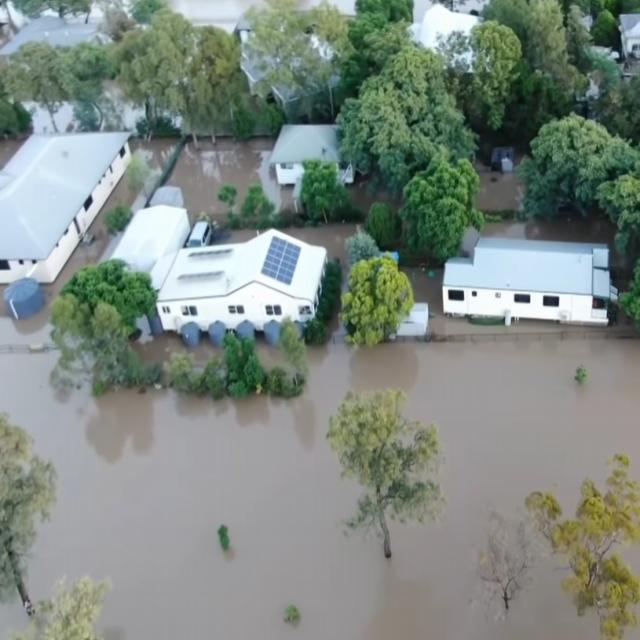flood: (0, 288, 640, 640), (167, 140, 293, 222), (477, 164, 525, 210)
house: (2, 124, 144, 316), (144, 222, 326, 346), (441, 235, 614, 332), (270, 121, 357, 186), (119, 206, 189, 282)
